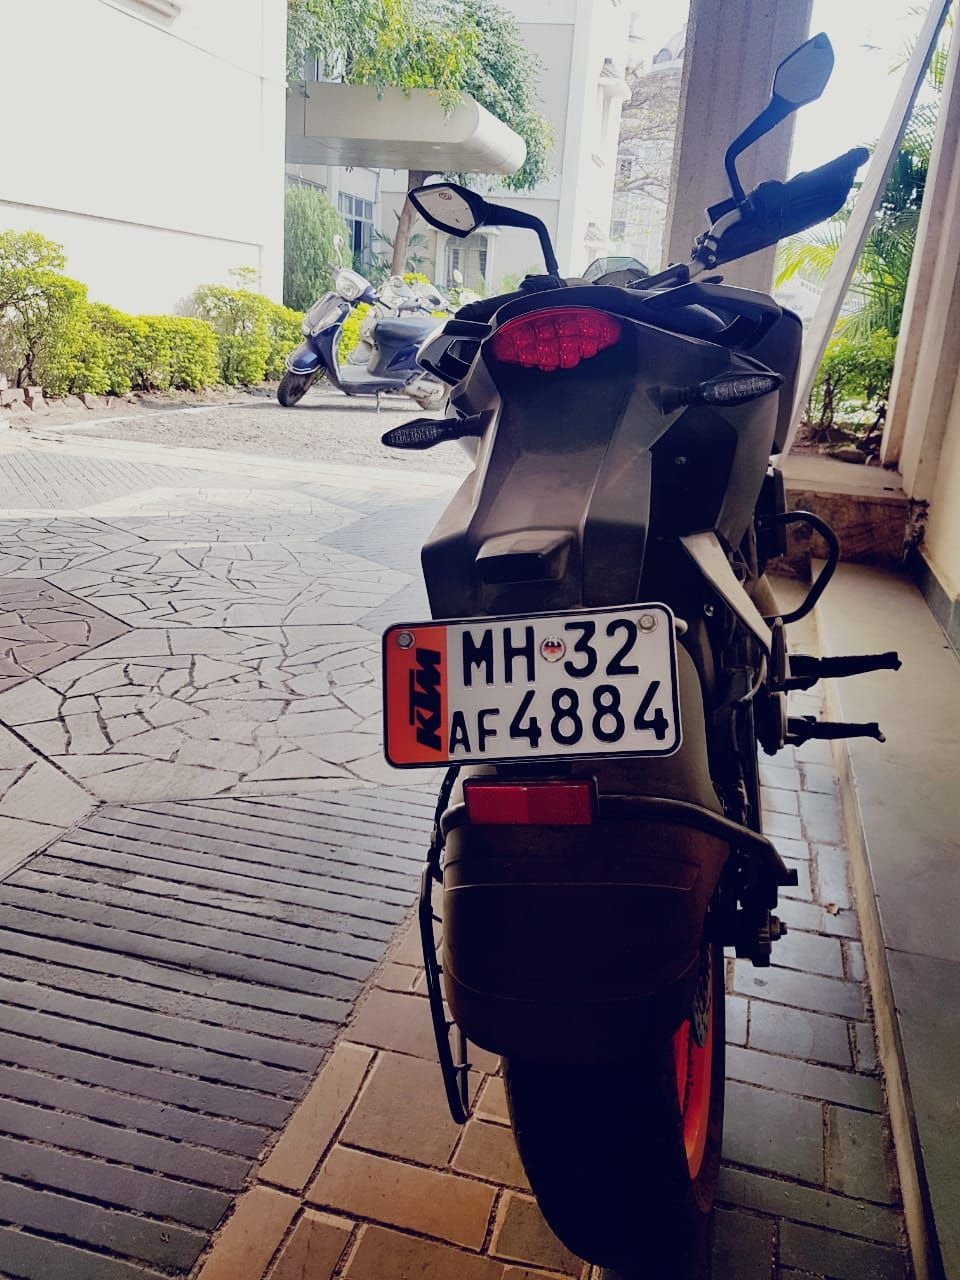plate: (366, 612, 711, 776)
